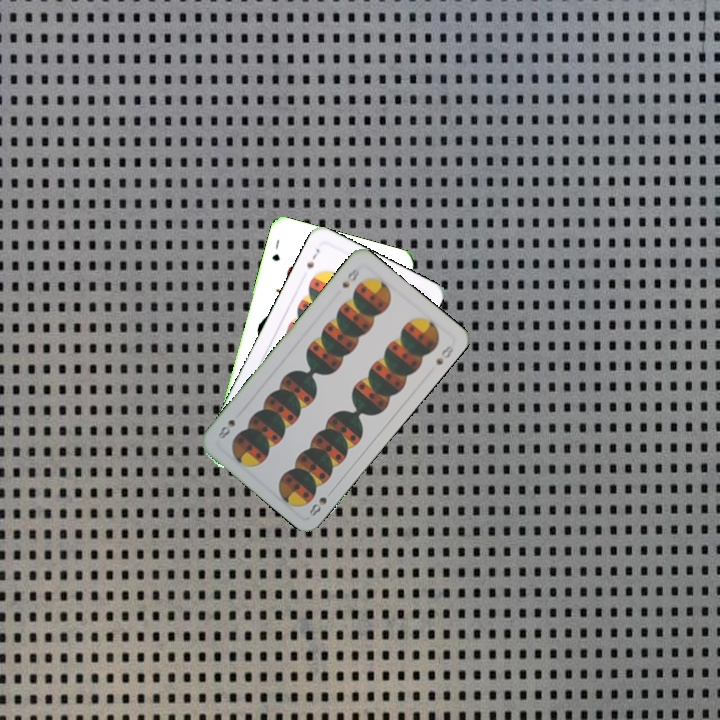GU: (268, 235, 282, 264)
S7: (302, 244, 322, 271)
S8: (338, 264, 362, 290), (305, 493, 329, 519)
